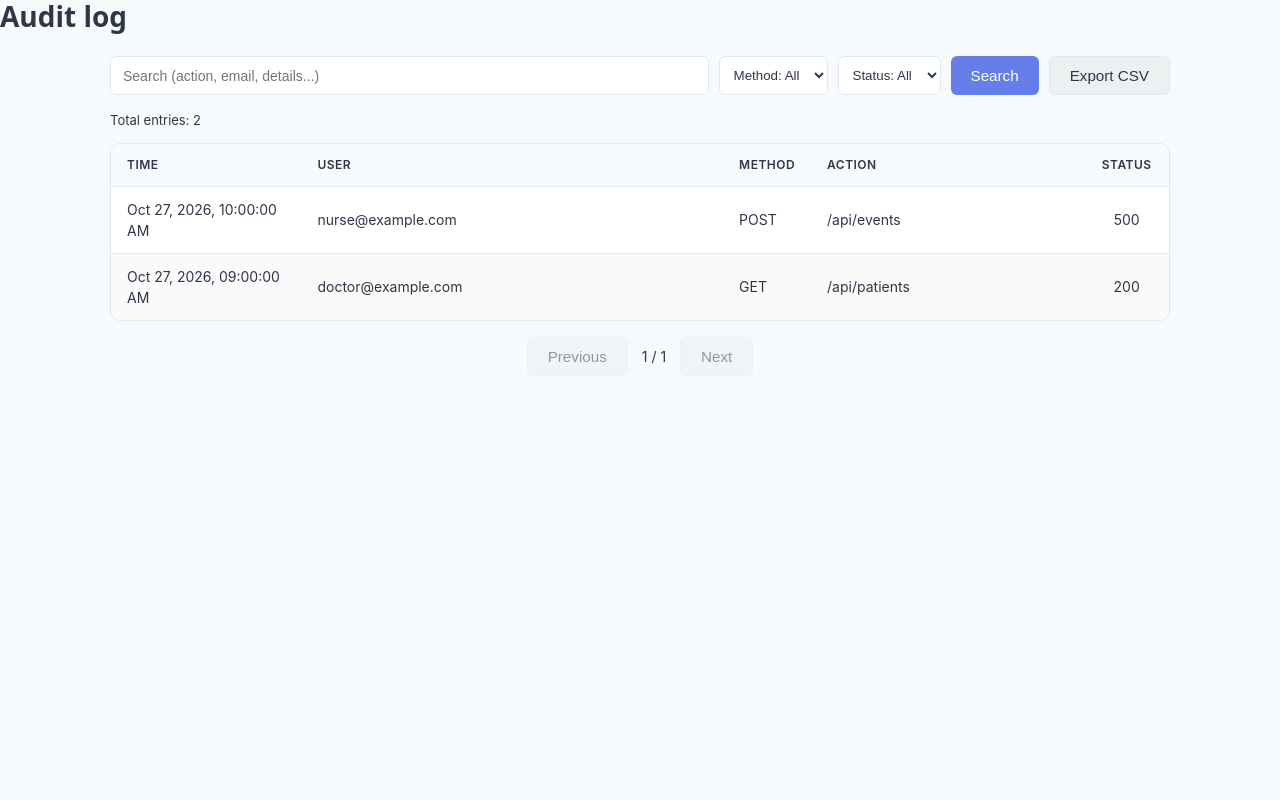
Test: ActivityLogPage › clicking a row opens the detail modal
The image size is (1280, 800).
Check: the text "/api/patients" is shown, box [811, 253, 1084, 320]
Click the text "doctor@example.com" at x=512, y=286, box [301, 253, 723, 320]
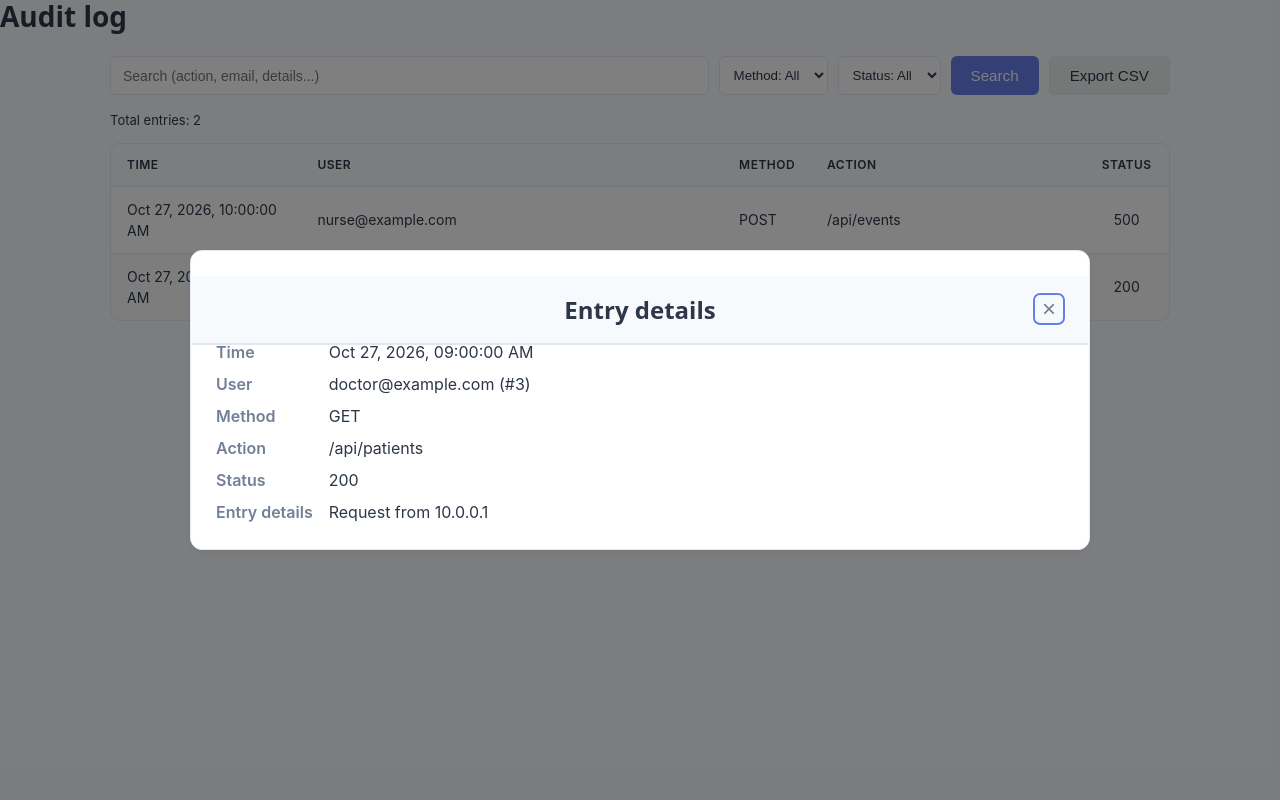
Check: the dialog is shown, box [190, 250, 1090, 550]
Check: the text "Request from 10.0.0.1" is shown, box [329, 502, 488, 522]
